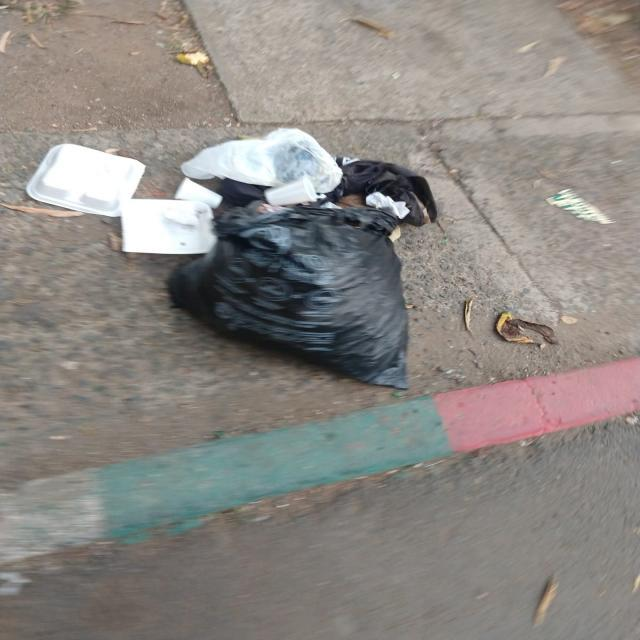high trash: (26, 128, 438, 388)
